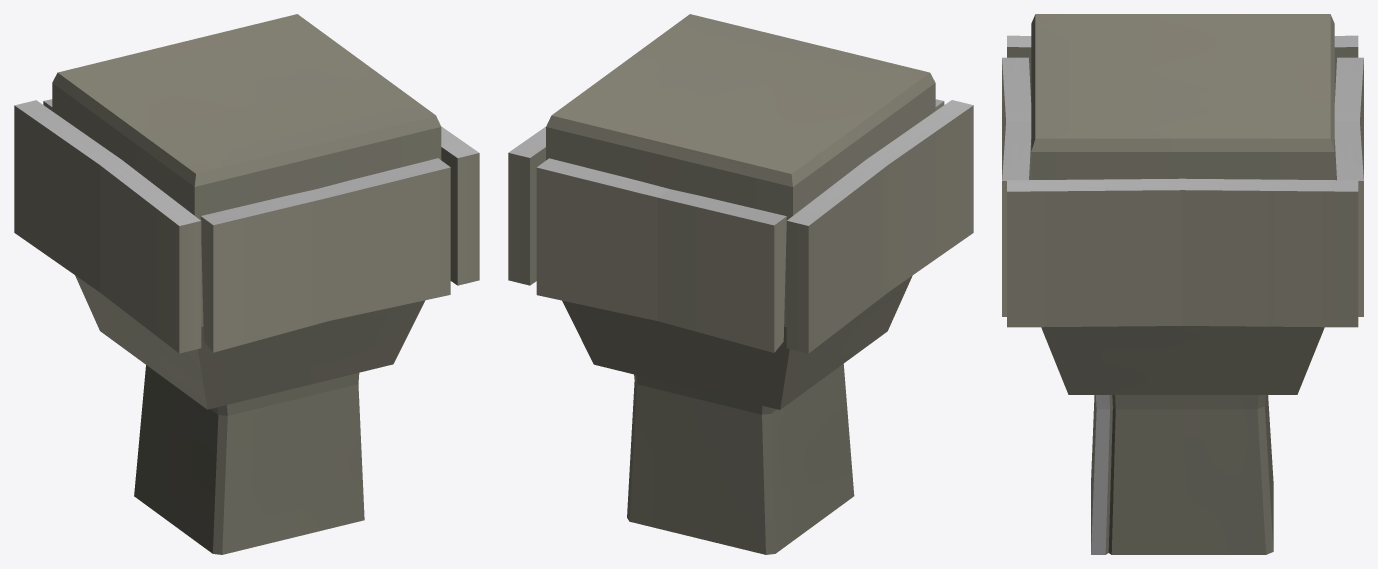
The model's file is paper stone fence 1.fbx.
3 renders of one model, left to right at view 1: azimuth 30°, elevation 25°; view 2: azimuth 150°, elevation 25°; view 3: azimuth 270°, elevation 25°, orthographic. The views are drawn at different scales.
Visible parts, largest first — view 1: Cube.002, Cube.005, Cube, Cube.004; view 2: Cube.002, Cube.005, Cube.004, Cube; view 3: Cube.002, Cube.004, Cube, Cube.005.
Part boxes in pixels (x1,y1,x2,y2): Cube.002: (52,14,441,409); Cube.005: (43,99,450,352); Cube: (134,365,364,554); Cube.004: (14,100,479,353); Cube.002: (546,14,935,409); Cube.005: (536,99,944,352); Cube.004: (508,100,973,353); Cube: (627,364,854,554); Cube.002: (1031,14,1334,394); Cube.004: (1007,35,1358,327); Cube: (1091,395,1273,554); Cube.005: (1002,57,1363,316).
Bounding box in the file's own units: 112 × 148 × 110.
